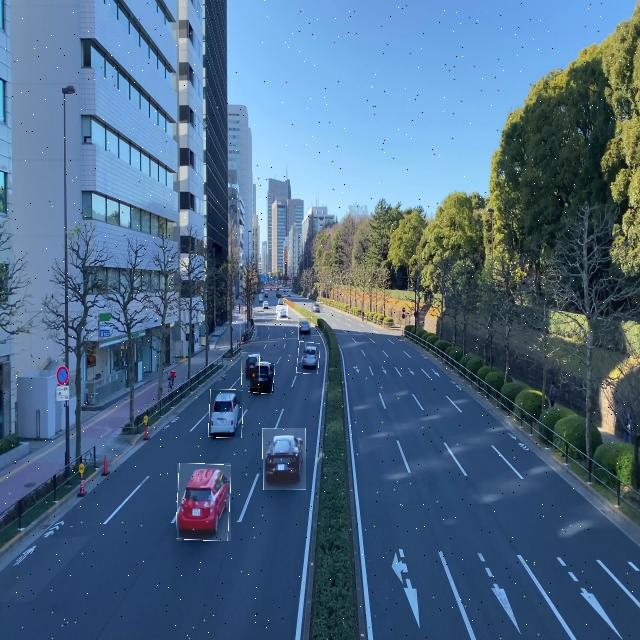Car: (177, 463, 231, 541), (263, 428, 306, 491), (209, 390, 242, 438), (250, 363, 274, 393), (297, 342, 320, 373), (242, 352, 260, 388), (298, 317, 311, 340), (277, 306, 288, 320), (311, 302, 323, 313)
